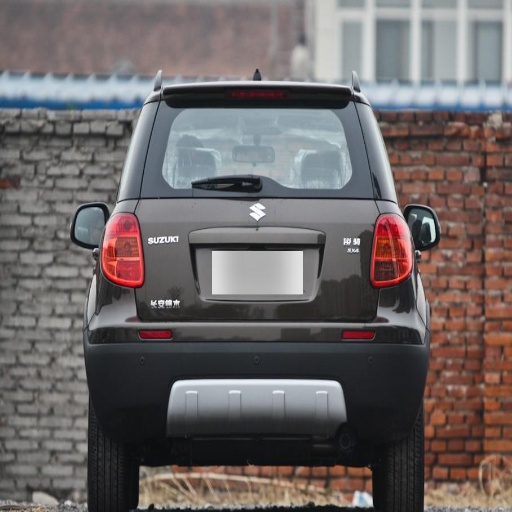back_bumper: (90, 281, 321, 436), (355, 277, 425, 418)
trunk: (111, 201, 379, 421)
